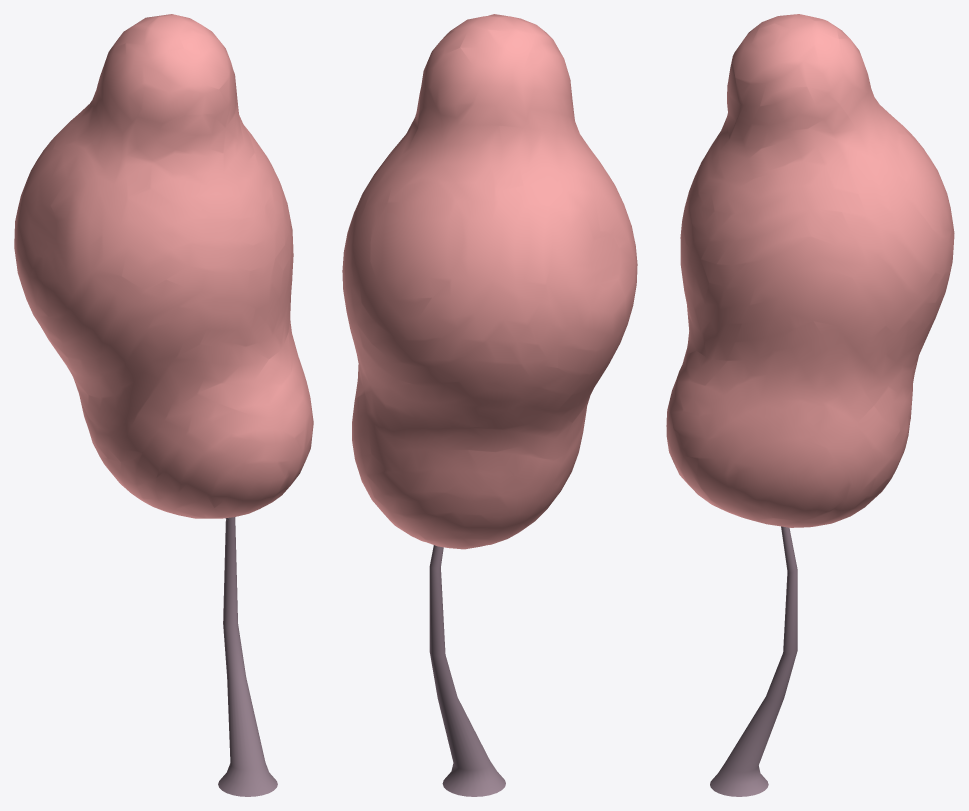
File: tree1.fbx
3 views of the same model, side by side, from view 1: azimuth 30°, elevation 25°; view 2: azimuth 150°, elevation 25°; view 3: azimuth 270°, elevation 25° (orthographic). The views are drawn at different scales.
Parts seen in each view (by area): view 1: Spheres, Wood_2; view 2: Spheres, Wood_2; view 3: Spheres, Wood_2.
Boxes of the visible parts, x1,y1,x2,y2 form: Spheres: (14,14,313,518); Wood_2: (218,517,277,796); Spheres: (342,14,637,549); Wood_2: (429,545,505,796); Spheres: (666,14,954,527); Wood_2: (710,526,797,796).
Bounding box in the file's own units: 3904 × 11493 × 4048.
